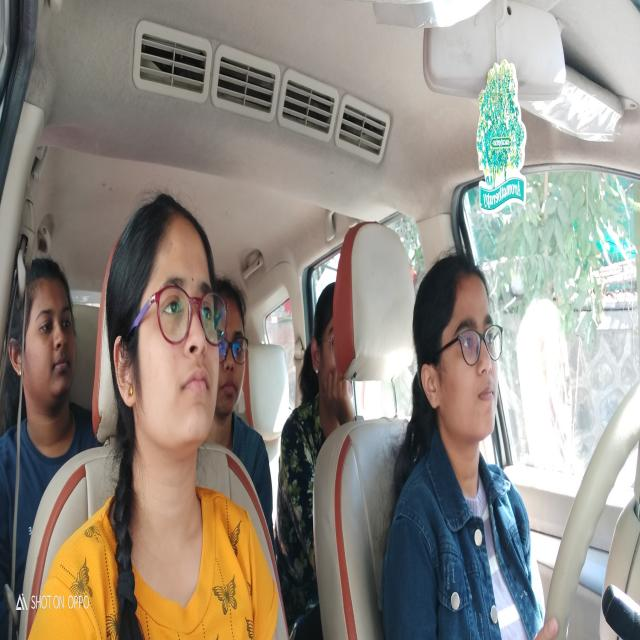person: (105, 191, 226, 469), (413, 243, 504, 454), (12, 251, 78, 415), (210, 255, 250, 432), (302, 275, 344, 436)
